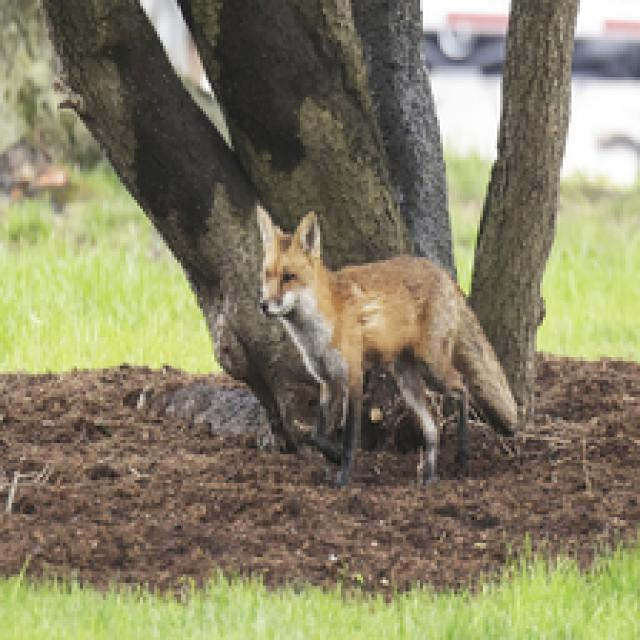fox: (225, 186, 532, 496)
